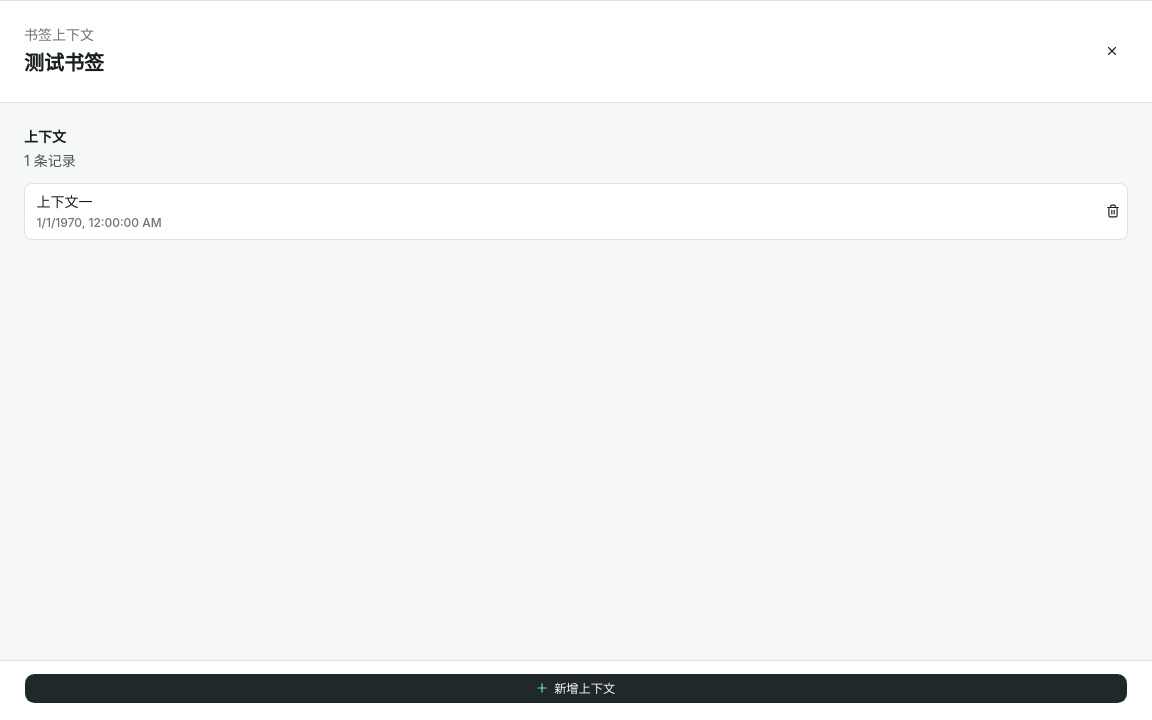
Test: ContextList（T6 Semi List 迁移） › 移动端抽屉共享真实列表与编辑器内容
Click the button with aria-label "编辑上下文 上下文一".
click(64, 201)  # box left=25, top=184, right=1091, bottom=239
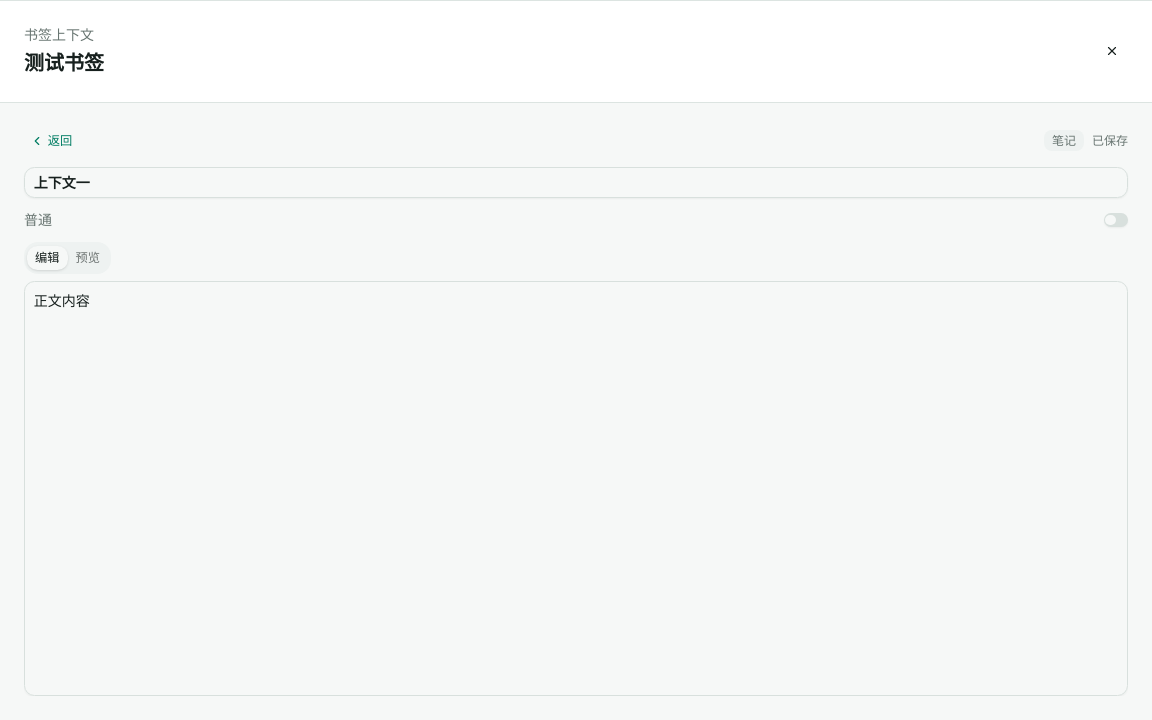
Expected: the field named "上下文标题" holds "上下文一", left=24, top=167, right=1128, bottom=198
Expected: the text box named "上下文内容" holds "正文内容", left=24, top=281, right=1128, bottom=696
